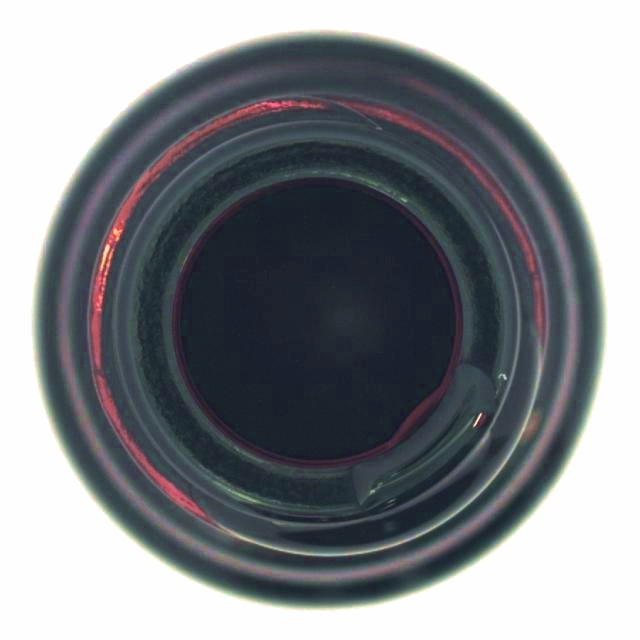bad-contamination: (33, 28, 606, 612)
